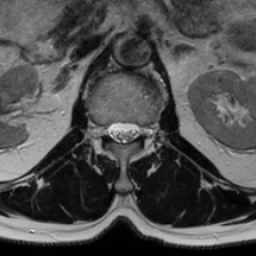CCS_normal: (119, 112, 128, 153)
LFS_normal: (139, 112, 149, 146)
LLS_normal: (128, 112, 139, 147)
RFS_normal: (98, 114, 107, 147)
RLS_normal: (107, 114, 119, 150)
